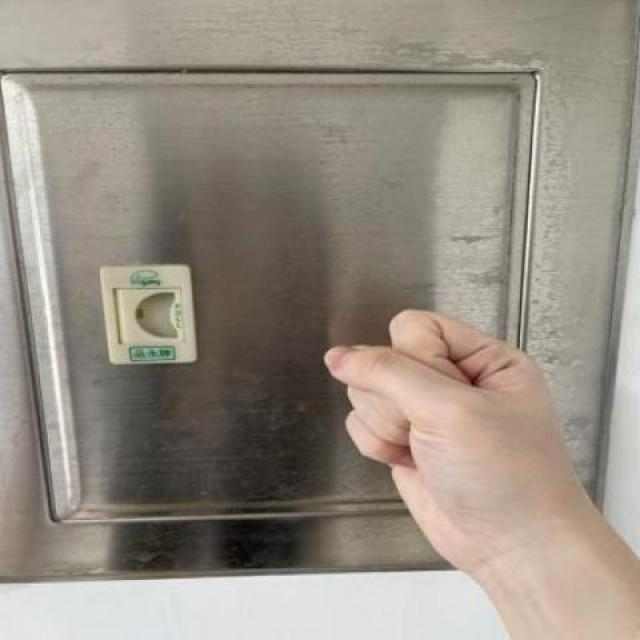Closed Hand: (320, 286, 592, 566)
